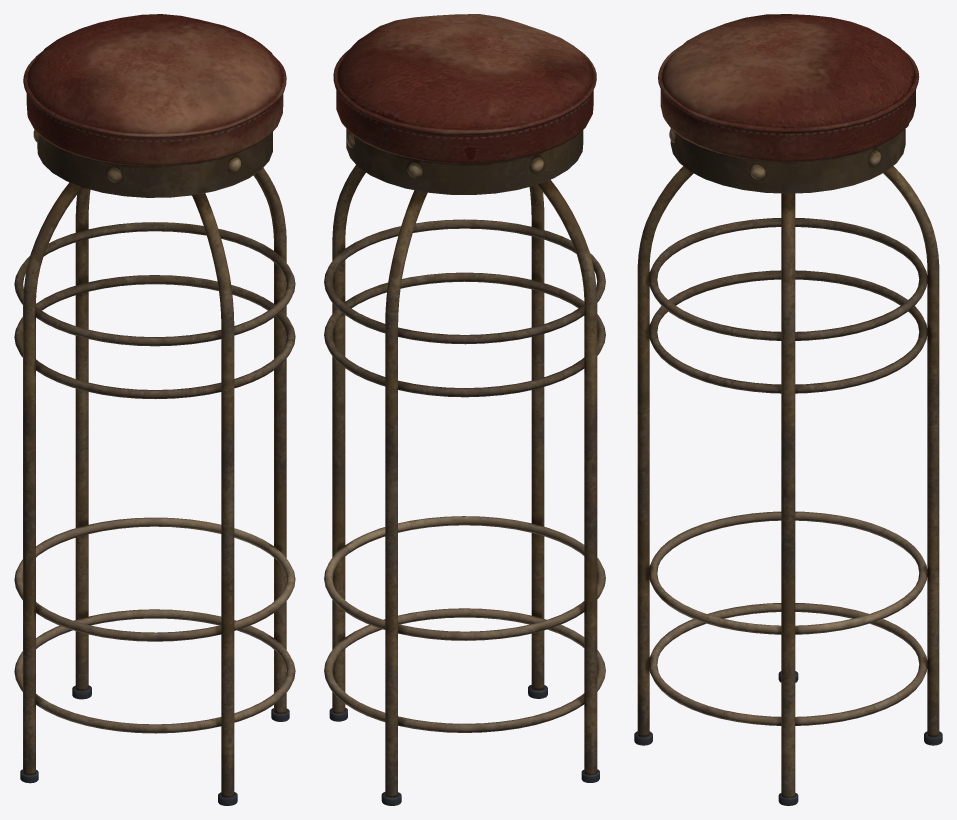
Rendered from metal_stool_01.glb.
The picture shows the model from 3 angles, left to right: view 1: azimuth 30°, elevation 25°; view 2: azimuth 150°, elevation 25°; view 3: azimuth 270°, elevation 25°; orthographic projection.
Visible parts, largest first — view 1: metal_stool_01; view 2: metal_stool_01; view 3: metal_stool_01.
Part boxes in pixels (x1=…): metal_stool_01: x1=14, y1=14, x2=295, y2=805; metal_stool_01: x1=324, y1=14, x2=605, y2=805; metal_stool_01: x1=634, y1=14, x2=942, y2=805.
Bounding box in the file's own units: 0.352 × 0.8828 × 0.3546.
1 material, 1 textured.
